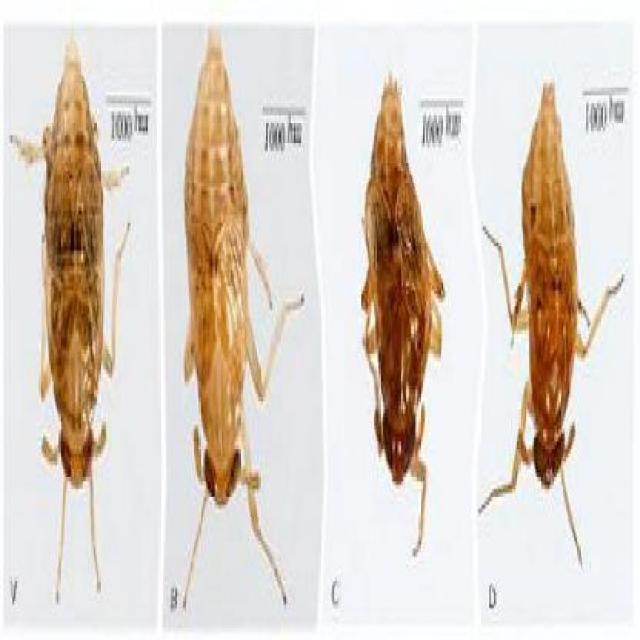brown-planthopper: (176, 36, 261, 550), (39, 26, 110, 534), (355, 68, 422, 518), (517, 59, 581, 490)
